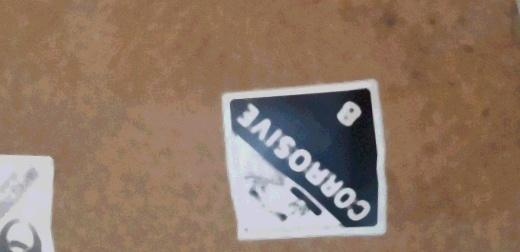corrosive: (220, 79, 385, 241)
